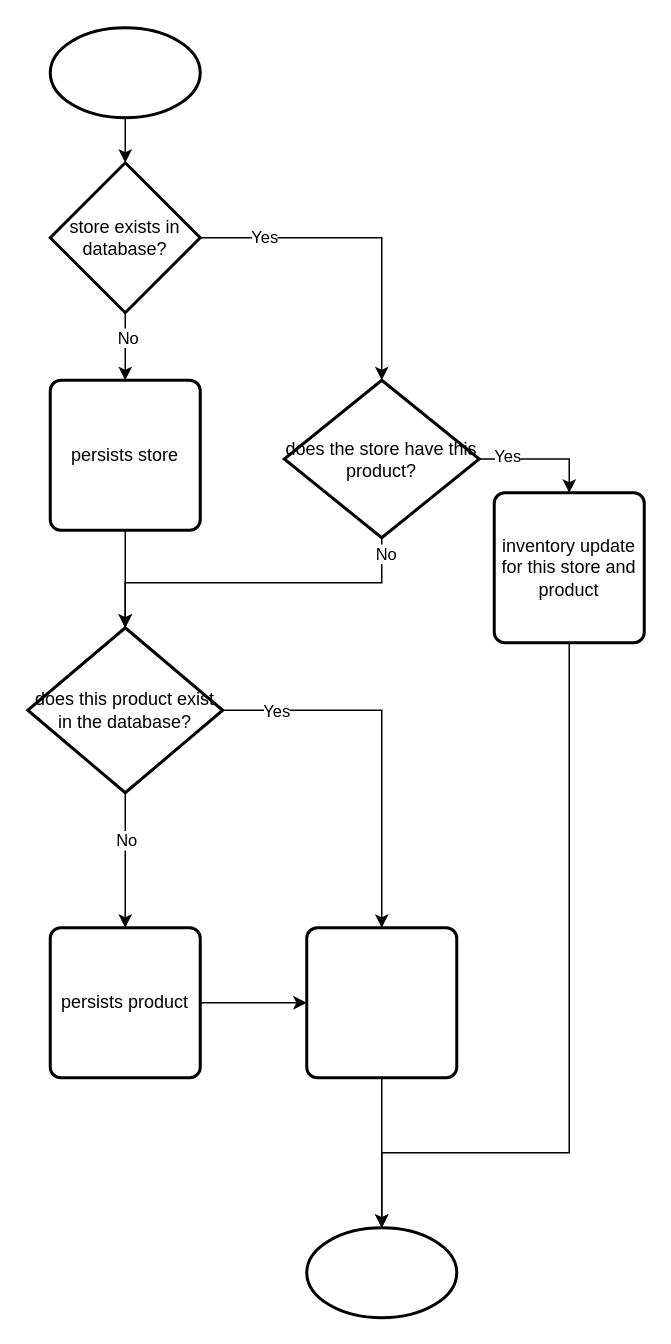
Image size: 671x1344. Some labels were removed from this diagram. Here are the shapes that lost their labels. From the top down, the box of each, then its label:
(48, 26, 201, 118): Start
(304, 926, 458, 1078): persists inventory
(304, 1226, 458, 1318): End
